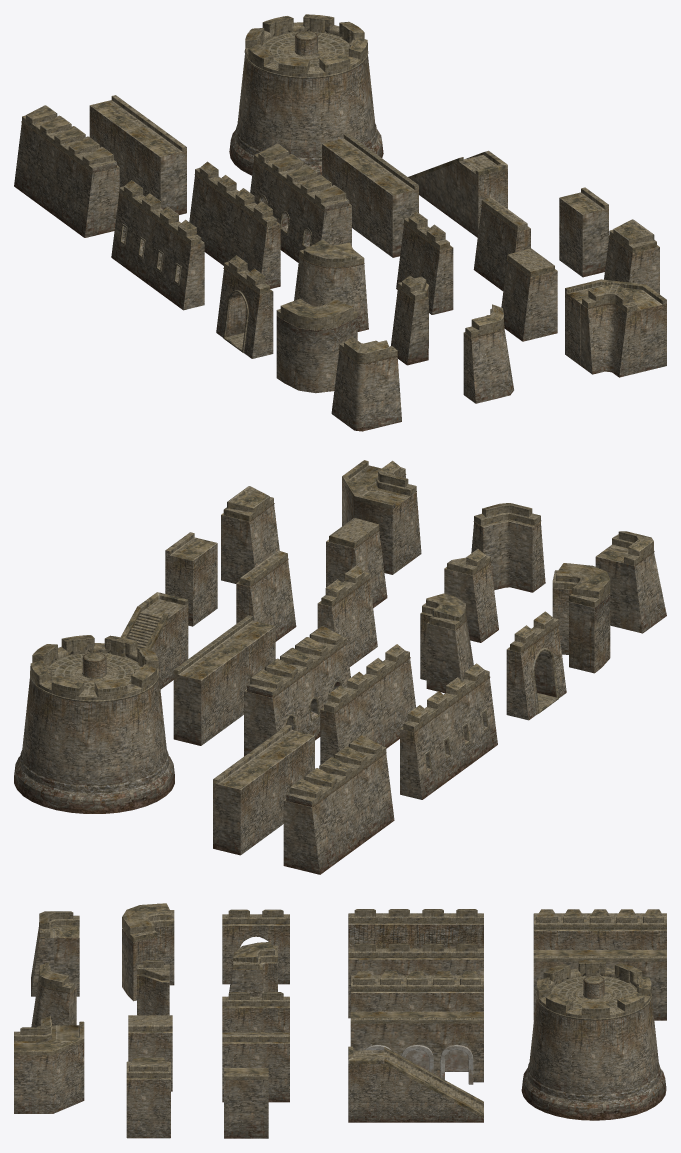
File: modular_fort_01.gltf
3 views of the same model, one above another, from view 1: azimuth 30°, elevation 25°; view 2: azimuth 150°, elevation 25°; view 3: azimuth 270°, elevation 25° (orthographic). The views are drawn at different scales.
Visible parts, largest first — view 1: modular_fort_01_tower_round, modular_fort_01_wall_thick_straight_01, modular_fort_01_wall_thin_straight_02, modular_fort_01_wall_thick_straight_02, modular_fort_01_wall_thin_straight_01, modular_fort_01_wall_walkway_straight_01, modular_fort_01_wall_walkway_straight_02, modular_fort_01_wall_thick_corner_02, modular_fort_01_wall_thin_corner_02, modular_fort_01_wall_thin_corner_01, modular_fort_01_wall_stairs_straight_01, modular_fort_01_wall_thin_gate_01 (+9 smaller); view 2: modular_fort_01_tower_round, modular_fort_01_wall_thick_straight_01, modular_fort_01_wall_thin_straight_02, modular_fort_01_wall_walkway_straight_01, modular_fort_01_wall_walkway_straight_02, modular_fort_01_wall_thick_straight_02, modular_fort_01_wall_thin_straight_01, modular_fort_01_wall_thick_corner_02, modular_fort_01_wall_thin_corner_03, modular_fort_01_wall_thin_gate_01, modular_fort_01_wall_thick_corner_01, modular_fort_01_wall_thick_end_02 (+10 smaller); view 3: modular_fort_01_tower_round, modular_fort_01_wall_stairs_straight_01, modular_fort_01_wall_walkway_straight_01, modular_fort_01_wall_walkway_corner_01, modular_fort_01_wall_thick_straight_02, modular_fort_01_wall_thick_straight_01, modular_fort_01_wall_thin_straight_02, modular_fort_01_wall_thin_straight_01, modular_fort_01_wall_thick_end_02, modular_fort_01_wall_thick_corner_02, modular_fort_01_wall_walkway_straight_02, modular_fort_01_wall_thin_straight_03 (+10 smaller).
Part boxes in pixels (left/top/right/bottom): modular_fort_01_tower_round: left=229, top=14, right=383, bottom=175; modular_fort_01_wall_thick_straight_01: left=14, top=105, right=119, bottom=237; modular_fort_01_wall_thin_straight_02: left=111, top=180, right=204, bottom=310; modular_fort_01_wall_thick_straight_02: left=250, top=143, right=351, bottom=262; modular_fort_01_wall_thin_straight_01: left=189, top=161, right=280, bottom=288; modular_fort_01_wall_walkway_straight_01: left=322, top=133, right=418, bottom=257; modular_fort_01_wall_walkway_straight_02: left=89, top=95, right=186, bottom=214; modular_fort_01_wall_thick_corner_02: left=276, top=298, right=357, bottom=393; modular_fort_01_wall_thin_corner_02: left=331, top=336, right=401, bottom=431; modular_fort_01_wall_thin_corner_01: left=580, top=284, right=640, bottom=377; modular_fort_01_wall_stairs_straight_01: left=408, top=150, right=507, bottom=237; modular_fort_01_wall_thin_gate_01: left=216, top=255, right=273, bottom=358; modular_fort_01_tower_round: left=14, top=635, right=174, bottom=813; modular_fort_01_wall_thick_straight_01: left=283, top=735, right=394, bottom=874; modular_fort_01_wall_thin_straight_02: left=400, top=663, right=497, bottom=799; modular_fort_01_wall_walkway_straight_01: left=173, top=615, right=275, bottom=745; modular_fort_01_wall_walkway_straight_02: left=213, top=724, right=314, bottom=855; modular_fort_01_wall_thick_straight_02: left=244, top=626, right=350, bottom=756; modular_fort_01_wall_thin_straight_01: left=320, top=644, right=415, bottom=764; modular_fort_01_wall_thick_corner_02: left=552, top=563, right=610, bottom=673; modular_fort_01_wall_thin_corner_03: left=471, top=503, right=545, bottom=592; modular_fort_01_wall_thin_gate_01: left=506, top=611, right=566, bottom=720; modular_fort_01_wall_thick_corner_01: left=420, top=593, right=473, bottom=693; modular_fort_01_wall_thick_end_02: left=221, top=486, right=279, bottom=583; modular_fort_01_tower_round: left=521, top=960, right=666, bottom=1120; modular_fort_01_wall_stairs_straight_01: left=348, top=1046, right=483, bottom=1122; modular_fort_01_wall_walkway_straight_01: left=350, top=1011, right=483, bottom=1084; modular_fort_01_wall_walkway_corner_01: left=14, top=1021, right=84, bottom=1113; modular_fort_01_wall_thick_straight_02: left=350, top=971, right=483, bottom=1011; modular_fort_01_wall_thick_straight_01: left=533, top=909, right=666, bottom=949; modular_fort_01_wall_thin_straight_02: left=348, top=909, right=483, bottom=948; modular_fort_01_wall_thin_straight_01: left=348, top=943, right=483, bottom=1018; modular_fort_01_wall_thick_end_02: left=126, top=1057, right=170, bottom=1138; modular_fort_01_wall_thick_corner_02: left=122, top=903, right=174, bottom=1001; modular_fort_01_wall_walkway_straight_02: left=533, top=950, right=666, bottom=1020; modular_fort_01_wall_thin_straight_03: left=222, top=1032, right=289, bottom=1102.
Size of the model in its own units: 42.67 by 13.67 by 71.38.
Materials: 3 (3 with a texture image).
